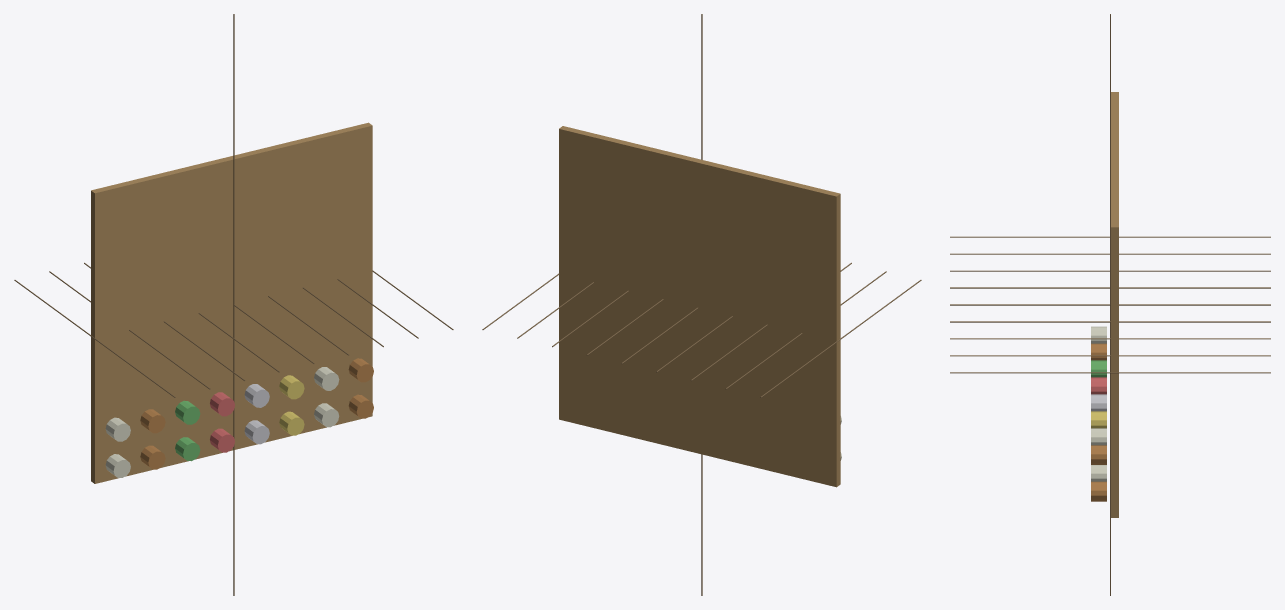
File: reconstructed.glb
3 renders of one model, left to right at view 1: azimuth 30°, elevation 25°; view 2: azimuth 150°, elevation 25°; view 3: azimuth 270°, elevation 25°, orthographic.
Visible parts, largest first — view 1: board; view 2: board; view 3: board, vline_8, vline_5, vline_6, vline_7, vline_4, vline_0, vline_1, vline_2, vline_3.
Boxes of the visible parts, bbox=[...] form: board: bbox=[91, 122, 372, 483]; board: bbox=[559, 126, 840, 487]; board: bbox=[1111, 92, 1118, 517]; vline_8: bbox=[950, 372, 1270, 373]; vline_5: bbox=[950, 321, 1270, 322]; vline_6: bbox=[950, 338, 1270, 339]; vline_7: bbox=[950, 355, 1270, 356]; vline_4: bbox=[950, 304, 1270, 305]; vline_0: bbox=[950, 236, 1270, 237]; vline_1: bbox=[950, 253, 1270, 254]; vline_2: bbox=[950, 270, 1270, 271]; vline_3: bbox=[950, 287, 1270, 288].
Bounding box in the file's own units: 8.03 × 16 × 8.
